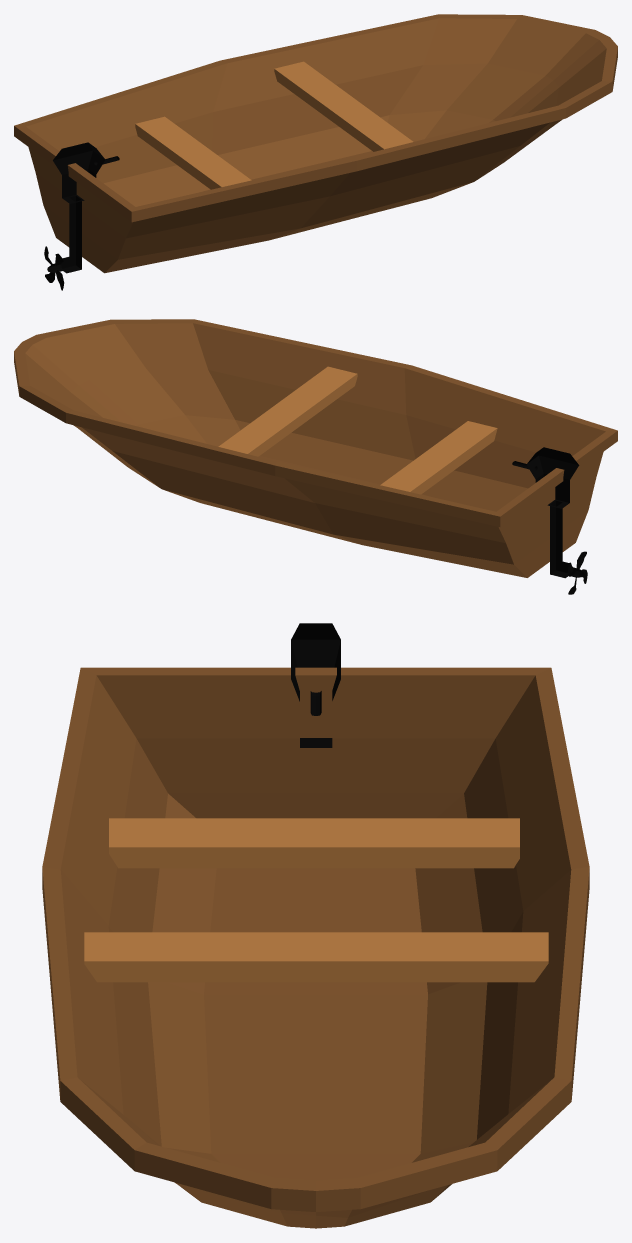
The model's file is Boat.fbx.
3 views of the same model, one above another, from view 1: azimuth 30°, elevation 25°; view 2: azimuth 150°, elevation 25°; view 3: azimuth 270°, elevation 25° (orthographic). The views are drawn at different scales.
Visible parts, largest first — view 1: Boat, Seat, Seat 1, Cube; view 2: Boat, Seat, Seat 1, Cube; view 3: Boat, Seat, Seat 1, Cube.
Boxes of the visible parts, x1,y1,x2,y2 form: Boat: (14, 14, 617, 273); Seat: (274, 61, 413, 151); Seat 1: (135, 116, 251, 189); Cube: (44, 142, 119, 290); Boat: (14, 319, 617, 577); Seat: (218, 366, 357, 456); Seat 1: (380, 421, 497, 494); Cube: (512, 447, 587, 594); Boat: (42, 667, 589, 1228); Seat: (84, 932, 548, 982); Seat 1: (109, 818, 519, 868); Cube: (291, 623, 340, 747).
Size of the model in its own units: 307 by 68.55 by 129.
